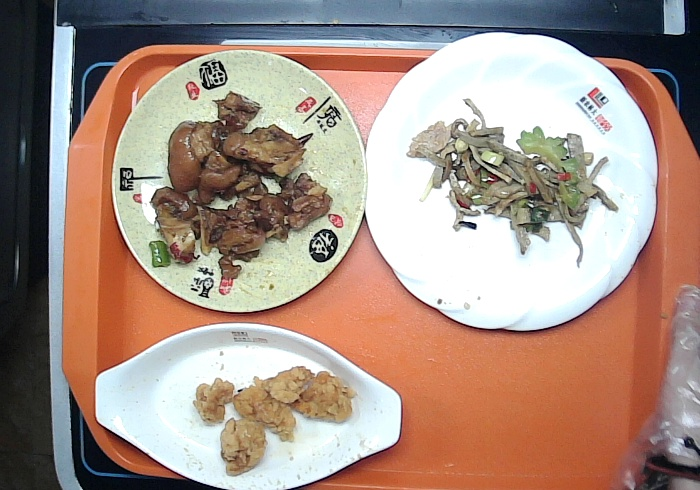NLDX-Bai_Zhe_Yuan_Pan: (364, 29, 663, 336)
NLDX-Fu_Zi_Yuan_Pan: (109, 44, 370, 313)
NLDX-Yu_Pan: (89, 319, 406, 490)
